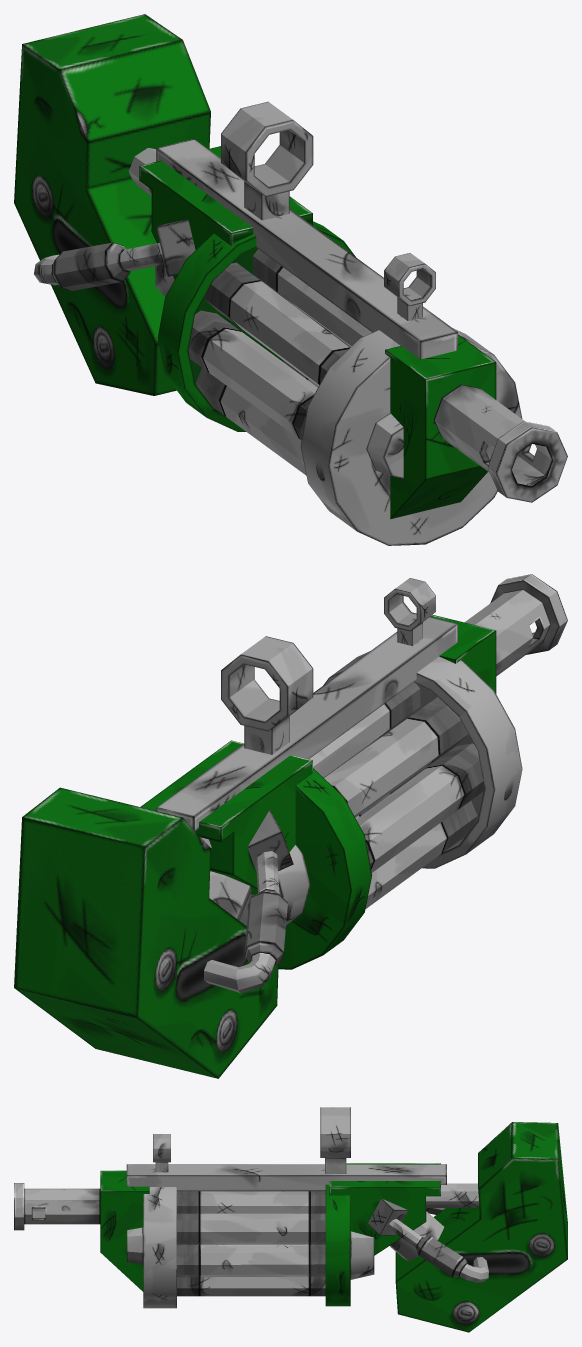
The model's file is Noob Tube.fbx.
3 renders of one model, top to bottom at view 1: azimuth 30°, elevation 25°; view 2: azimuth 150°, elevation 25°; view 3: azimuth 270°, elevation 25°, orthographic. The views are drawn at different scales.
Parts seen in each view (by area): view 1: MainBody, ShoulderMount, Chambers, Barrel; view 2: MainBody, ShoulderMount, Chambers, Barrel; view 3: MainBody, ShoulderMount, Chambers, Barrel.
Part boxes in pixels (x1,y1,x2,y2): MainBody: (34, 101, 522, 545); ShoulderMount: (14, 14, 210, 395); Chambers: (188, 249, 371, 475); Barrel: (434, 384, 567, 502); MainBody: (140, 578, 522, 993); ShoulderMount: (14, 787, 278, 1078); Chambers: (309, 682, 484, 908); Barrel: (464, 574, 567, 676); MainBody: (100, 1107, 488, 1308); ShoulderMount: (390, 1122, 567, 1332); Chambers: (177, 1191, 325, 1296); Barrel: (14, 1183, 100, 1230).
Size of the model in its own units: 52.59 by 71.58 by 177.
